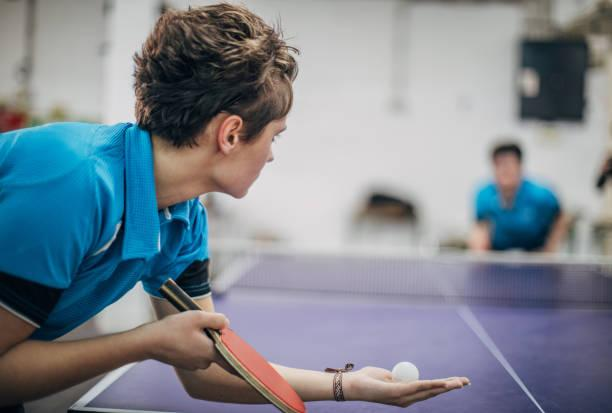ball_pingpong: (391, 359, 422, 386)
